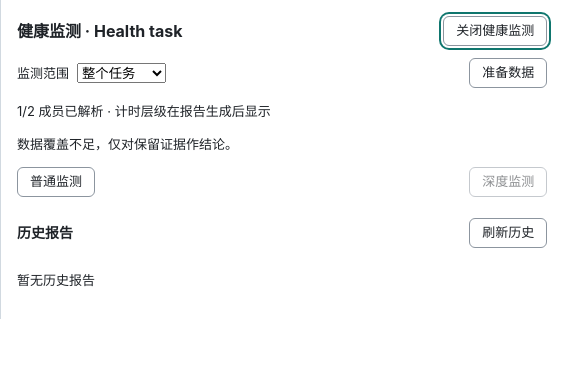
cancels generation and discards late success even if the transport ignores abort
Click the button "普通监测" at (56, 182), box [17,167,95,197]
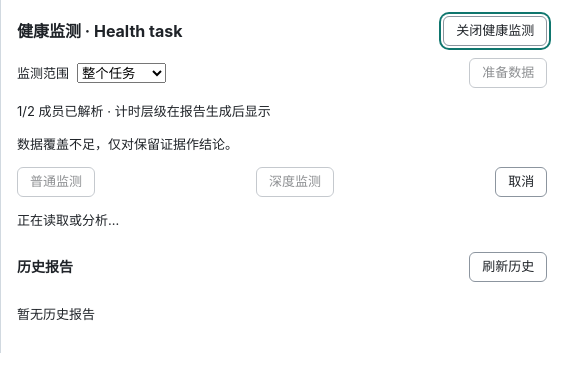
Click the button "取消" at (521, 182), box [495,167,547,197]
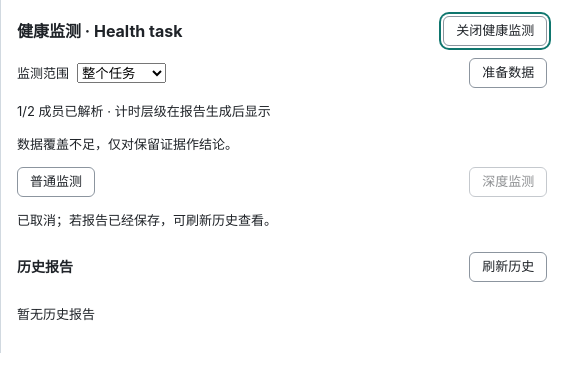
Expected: the text "已取消" is shown, [17,212,277,228]
